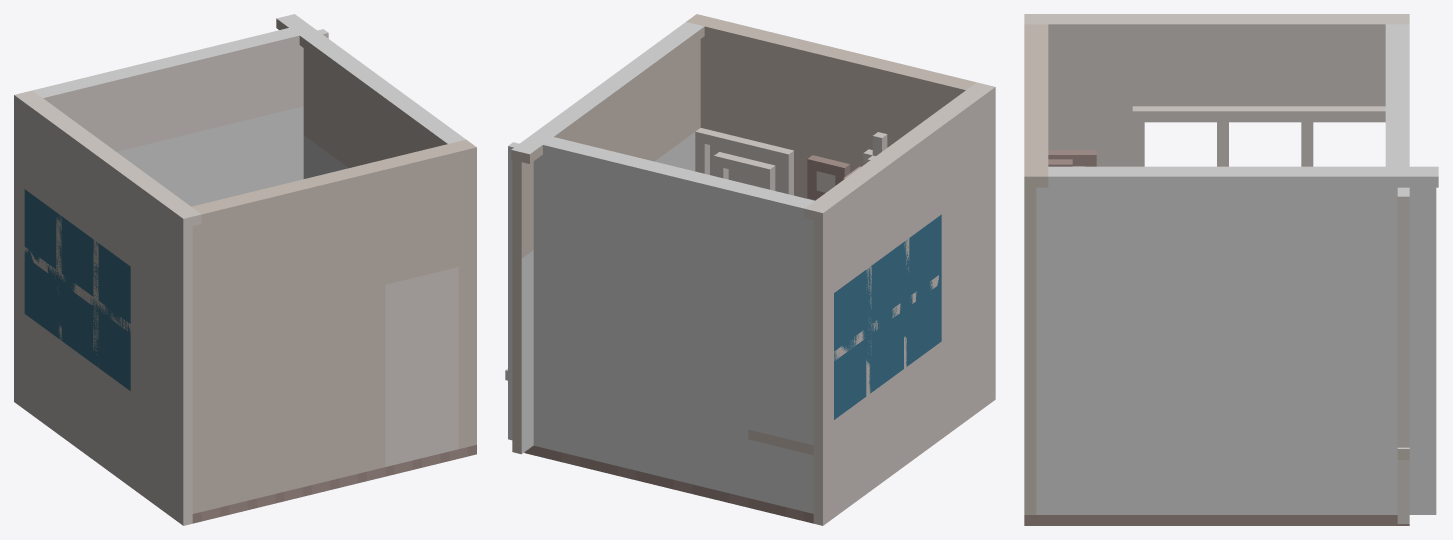
The model's file is room_model.glb.
3 views of the same model, side by side, from view 1: azimuth 30°, elevation 25°; view 2: azimuth 150°, elevation 25°; view 3: azimuth 270°, elevation 25° (orthographic). The views are drawn at different scales.
Visible parts, largest first — view 1: Object_2, Object_2.001; view 2: Object_2, Object_2.001; view 3: Object_2.001, Object_2.
Boxes of the visible parts, box(x1,y1,x2,y2) form: Object_2: box(14, 14, 476, 525); Object_2.001: box(276, 18, 447, 178); Object_2: box(505, 14, 995, 525); Object_2.001: box(521, 26, 704, 453); Object_2.001: box(1036, 187, 1436, 514); Object_2: box(1024, 14, 1438, 525).
Size of the model in its own units: 34.01 by 32 by 34.41.
2 materials, 1 textured.
